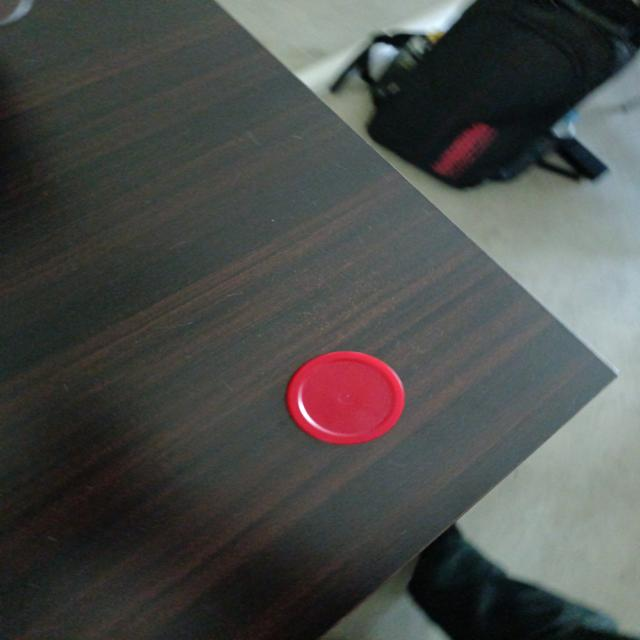chip: (283, 349, 408, 447)
